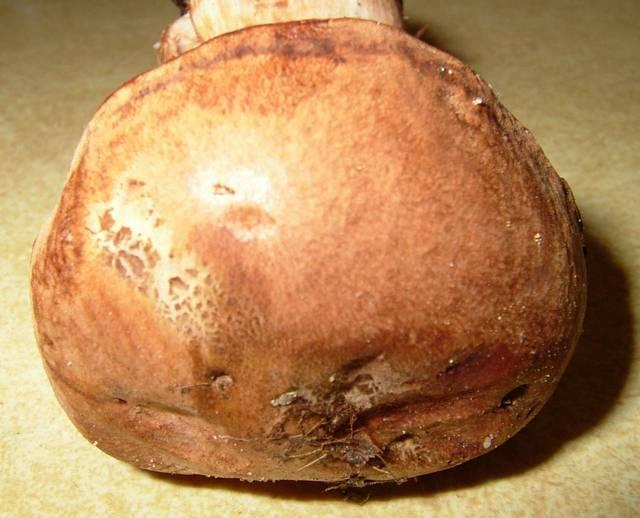poisonous_mushroom: (27, 0, 590, 492)
